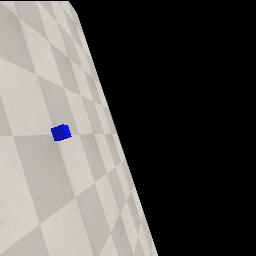box: (51, 124, 72, 141)
